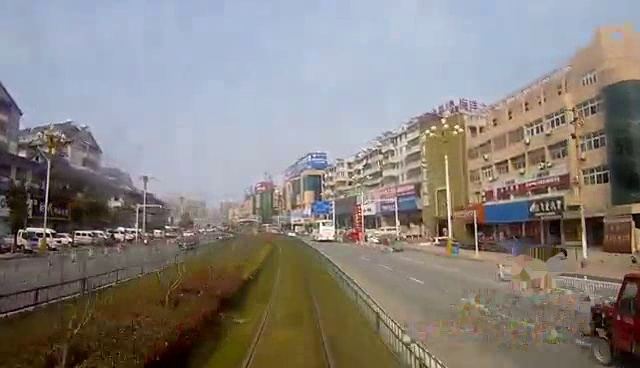bus: (310, 219, 338, 244)
car: (19, 224, 66, 254), (172, 233, 208, 254)
